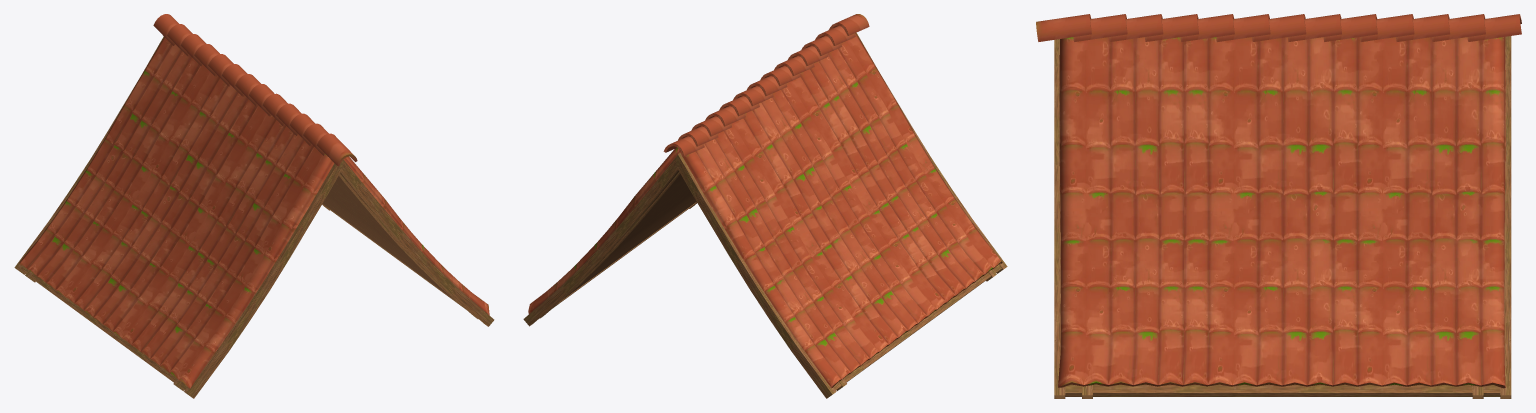
File: roof_roundtiles_8x8.glb
3 views of the same model, side by side, from view 1: azimuth 30°, elevation 25°; view 2: azimuth 150°, elevation 25°; view 3: azimuth 270°, elevation 25° (orthographic). The views are drawn at different scales.
Bounding box in the file's own units: 9.95 × 6.78 × 10.33.
Materials: 2 (2 with a texture image).
